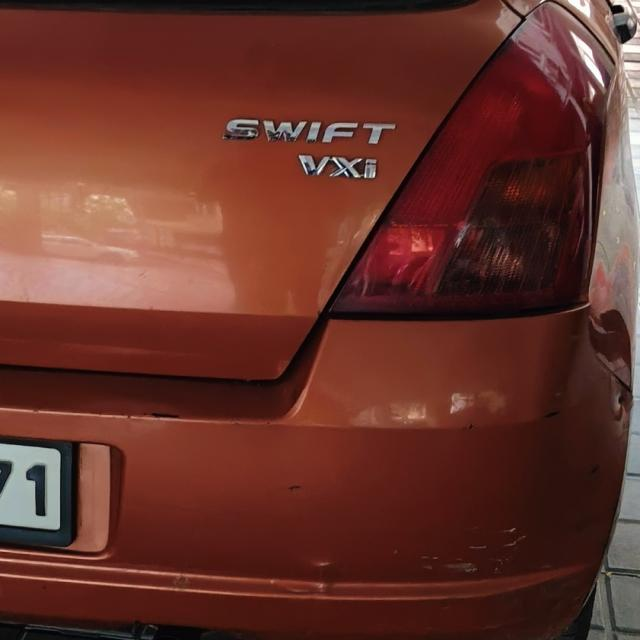scratch: (386, 524, 536, 584), (263, 558, 340, 600), (455, 408, 566, 436), (119, 410, 190, 428), (226, 418, 279, 432), (281, 481, 307, 499)
